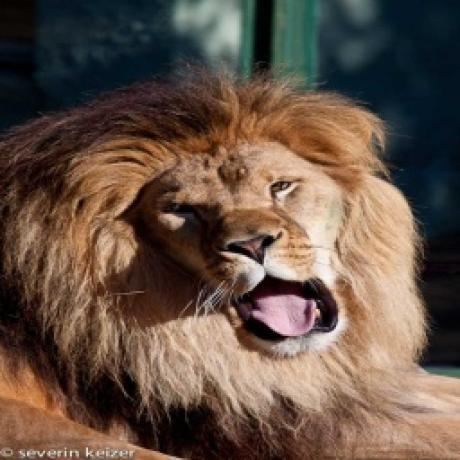Lion: (0, 66, 458, 460)
